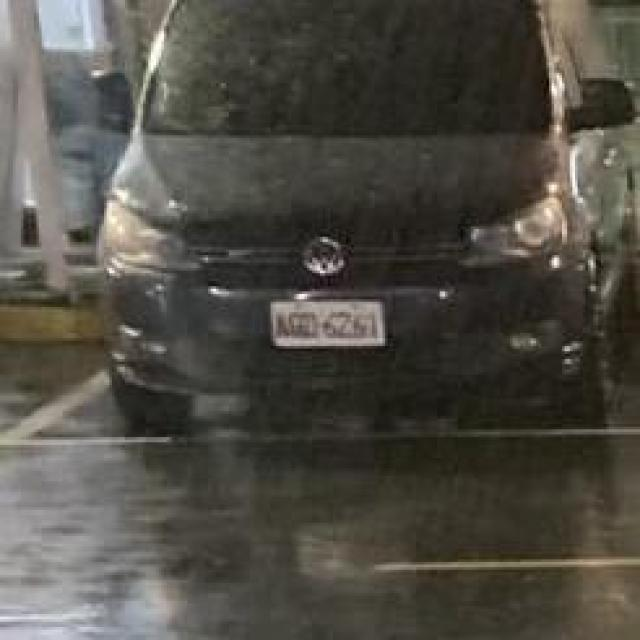W: (270, 298, 388, 350)
